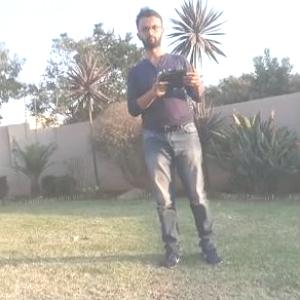follow: (124, 2, 230, 273)
